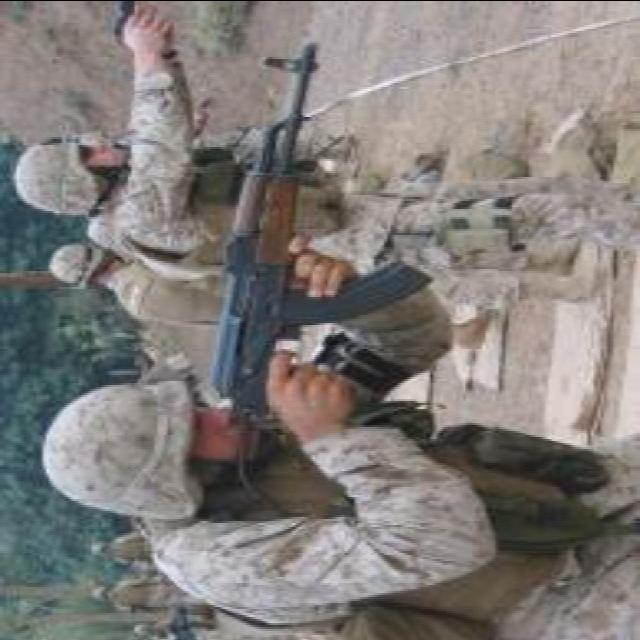rifle: (195, 37, 439, 485)
